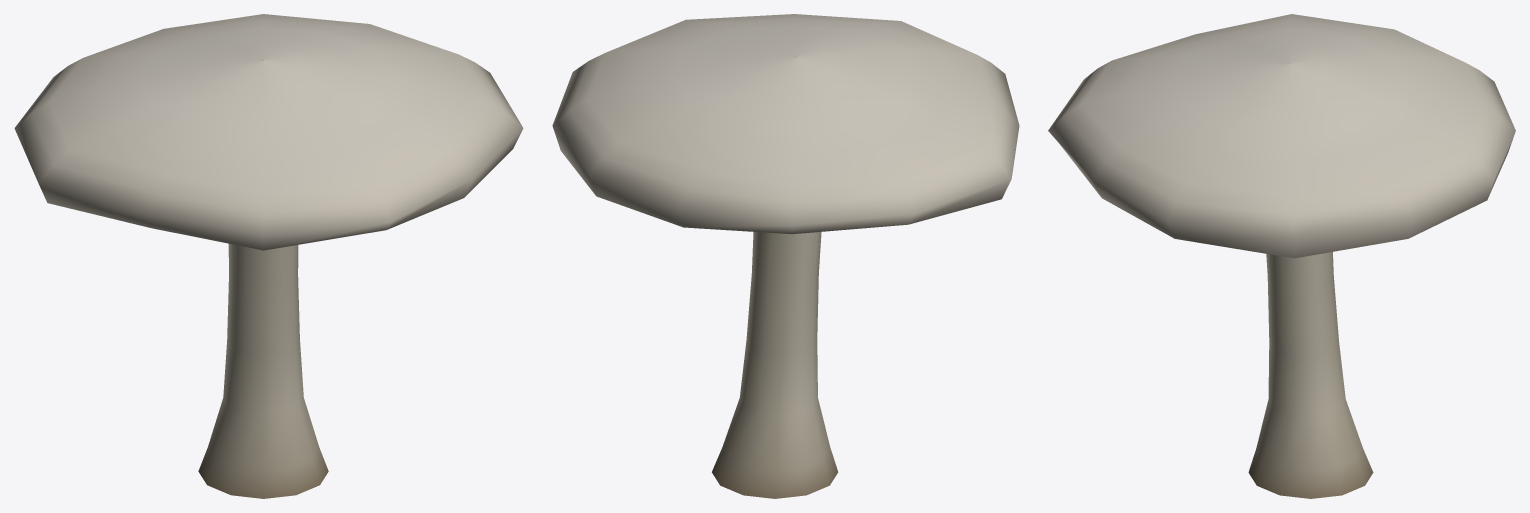
The model's file is mushroom-glow-c.glb.
3 views of the same model, side by side, from view 1: azimuth 30°, elevation 25°; view 2: azimuth 150°, elevation 25°; view 3: azimuth 270°, elevation 25° (orthographic). The views are drawn at different scales.
Parts seen in each view (by area): view 1: mushroom-glow-c; view 2: mushroom-glow-c; view 3: mushroom-glow-c.
Boxes of the visible parts, x1,y1,x2,y2 form: mushroom-glow-c: (14, 14, 523, 498); mushroom-glow-c: (552, 14, 1019, 498); mushroom-glow-c: (1048, 14, 1515, 498).
Size of the model in its own units: 0.2807 by 0.25 by 0.2626.
